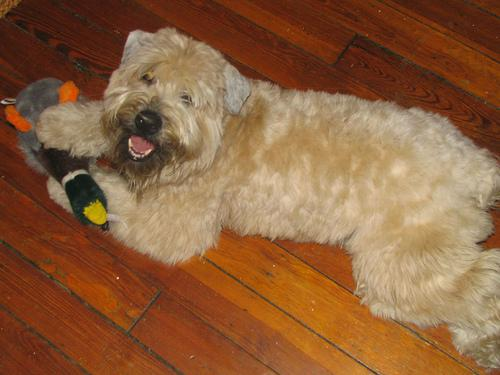dog-wheaten_terrier: (103, 27, 248, 171)
